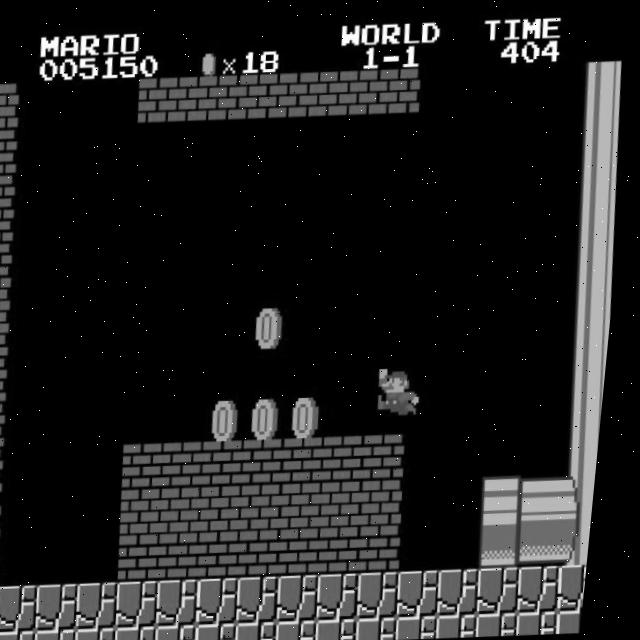1- brick_block: (177, 75, 224, 124), (207, 530, 254, 579), (248, 483, 295, 532), (247, 528, 294, 577), (288, 481, 335, 530), (327, 525, 374, 574), (368, 478, 415, 527), (137, 77, 184, 125), (129, 442, 176, 490), (128, 488, 175, 536), (217, 74, 264, 122), (209, 439, 256, 487), (289, 436, 336, 484), (287, 527, 334, 575), (338, 69, 385, 117), (329, 434, 376, 482), (328, 480, 375, 528), (378, 67, 425, 115), (127, 533, 173, 582), (168, 486, 214, 535), (258, 72, 304, 121), (169, 441, 216, 488), (249, 438, 296, 485), (167, 532, 213, 580), (208, 485, 254, 533), (298, 71, 344, 119), (368, 524, 414, 572), (370, 433, 416, 480), (0, 83, 23, 131), (0, 129, 22, 176), (0, 175, 21, 222), (0, 220, 19, 268), (0, 266, 19, 314), (0, 357, 17, 405), (0, 311, 17, 358), (0, 403, 16, 451), (0, 449, 15, 496), (0, 495, 14, 542), (0, 540, 13, 588)
11- little_mario: (380, 363, 430, 415)
14- pipe: (578, 58, 625, 107), (575, 195, 622, 244), (577, 104, 624, 152), (576, 150, 623, 198), (528, 517, 574, 566), (574, 241, 620, 290), (572, 287, 619, 334), (529, 472, 575, 520), (572, 332, 615, 380), (570, 378, 612, 426), (569, 424, 608, 471), (568, 470, 605, 517), (567, 515, 602, 563)
15- pipe_head: (489, 473, 536, 522), (488, 519, 534, 567)
17- undestructible_block: (5, 584, 52, 633), (85, 581, 132, 630), (206, 576, 253, 625), (246, 574, 293, 623), (326, 571, 373, 620), (406, 568, 453, 617), (446, 566, 493, 615), (45, 583, 92, 631), (286, 573, 333, 621), (366, 570, 413, 618), (527, 563, 573, 612), (126, 580, 172, 628), (166, 578, 212, 626), (487, 565, 533, 613), (566, 561, 598, 609), (487, 610, 531, 636), (367, 615, 411, 640), (407, 614, 451, 639), (447, 612, 491, 637), (527, 609, 571, 634), (327, 617, 371, 640), (287, 618, 330, 640), (247, 619, 290, 640), (207, 621, 250, 640), (167, 624, 210, 640), (567, 607, 595, 631), (127, 625, 170, 640), (0, 586, 12, 634), (87, 627, 130, 640), (47, 628, 89, 640), (7, 630, 49, 640), (0, 631, 9, 640)
2- coin: (210, 393, 257, 442), (252, 300, 299, 349), (250, 392, 297, 440), (291, 390, 337, 439)
